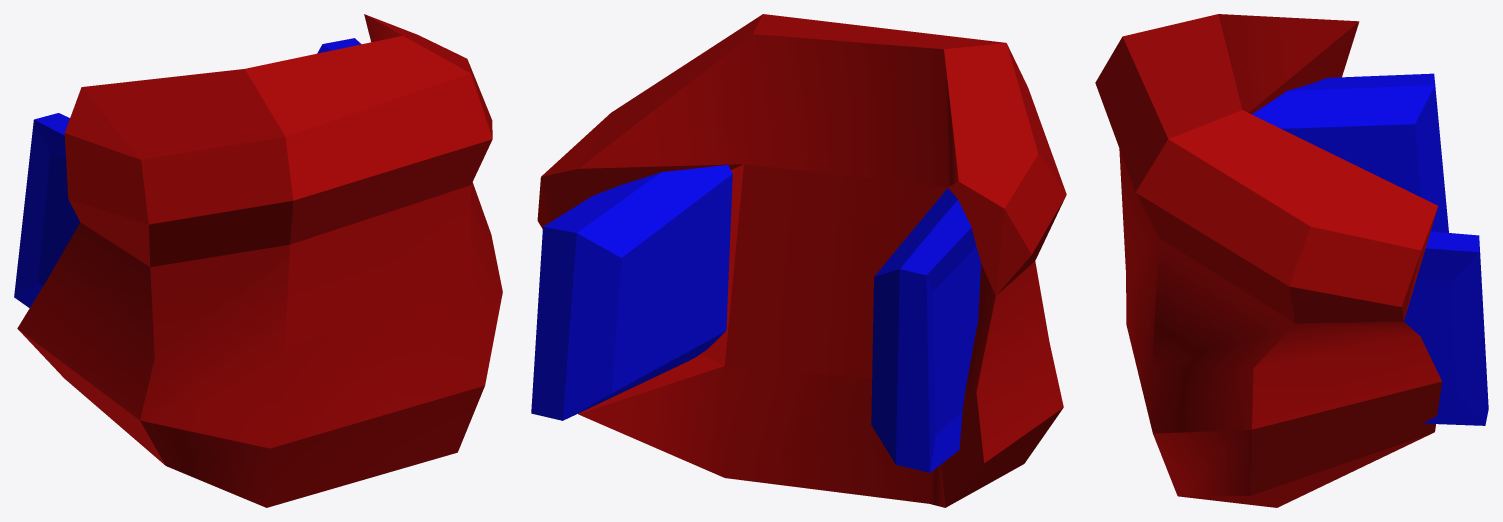
Rendered from Chr_KneeAttachLeft_Static_03.fbx.
3 views of the same model, side by side, from view 1: azimuth 30°, elevation 25°; view 2: azimuth 150°, elevation 25°; view 3: azimuth 270°, elevation 25° (orthographic). The views are drawn at different scales.
Parts seen in each view (by area): view 1: Chr_KneeAttachLeft_03; view 2: Chr_KneeAttachLeft_03; view 3: Chr_KneeAttachLeft_03.
Part boxes in pixels (x1,y1,x2,y2): Chr_KneeAttachLeft_03: (14,14,502,507); Chr_KneeAttachLeft_03: (531,14,1066,507); Chr_KneeAttachLeft_03: (1095,14,1488,507).
Bounding box in the file's own units: 17.86 × 17.31 × 15.02.
